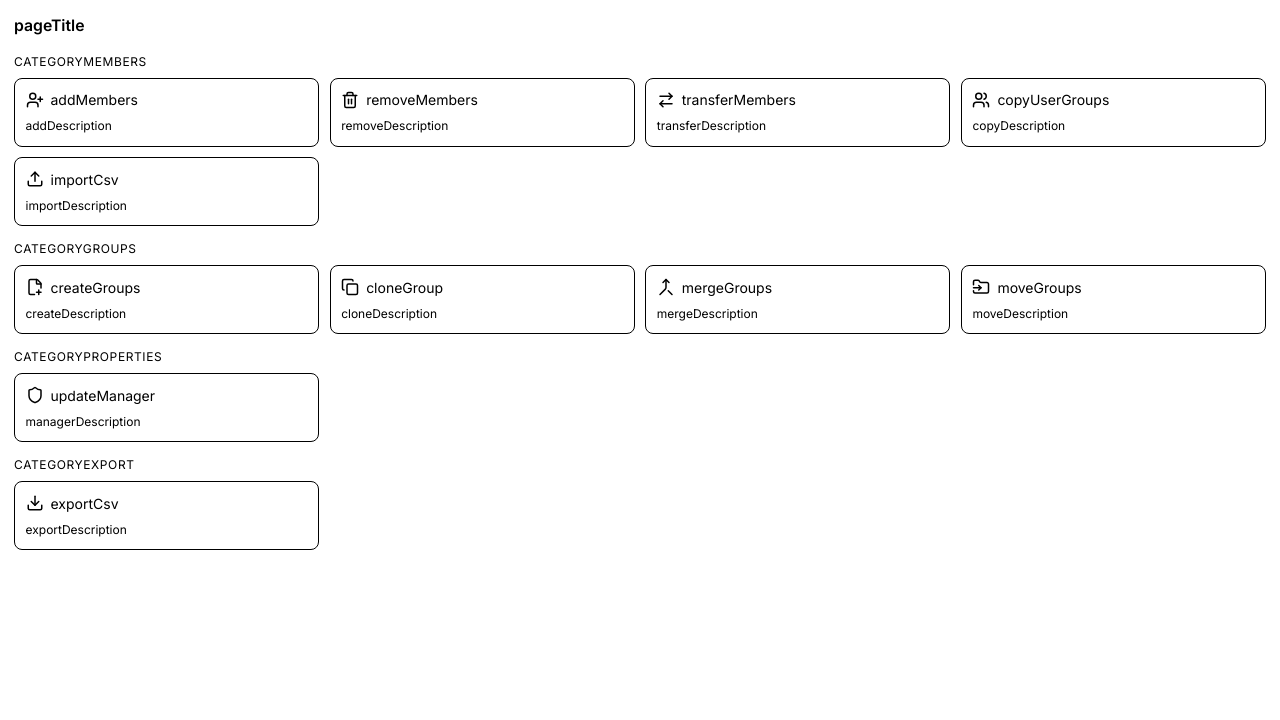
Test: BulkOperations › clicking an operation card navigates to its panel
The width and height of the screenshot is (1280, 720).
Click the button with test id "op-card-delete". click: (422, 100)
box: [330,78,635,146]
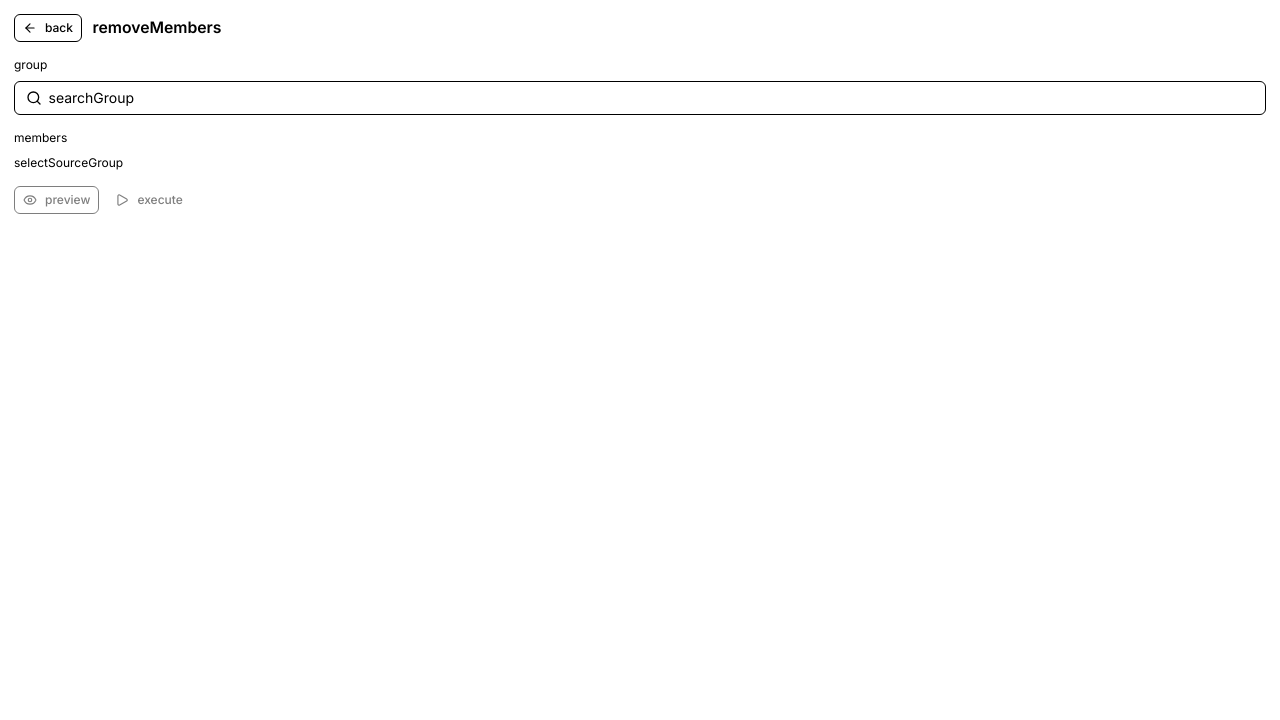
Result: the button with test id "bulk-back-btn" is shown at [14,14,82,42]
Result: the element with test id "operation-picker" is gone
